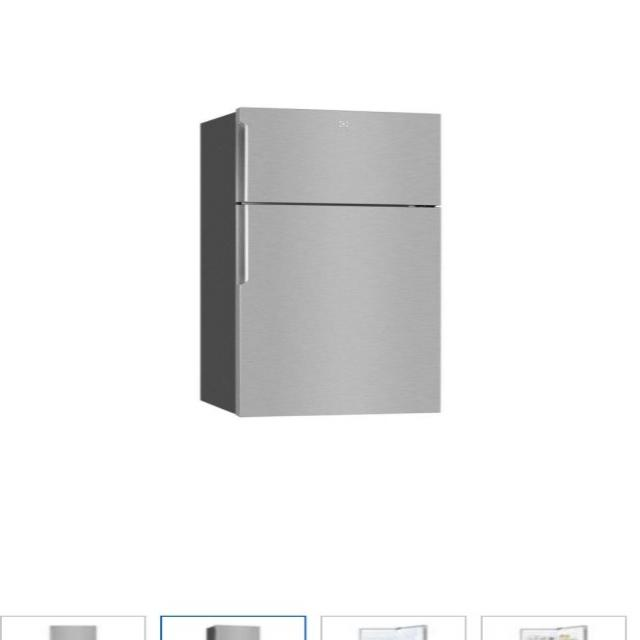refrigerator: (197, 109, 447, 420)
